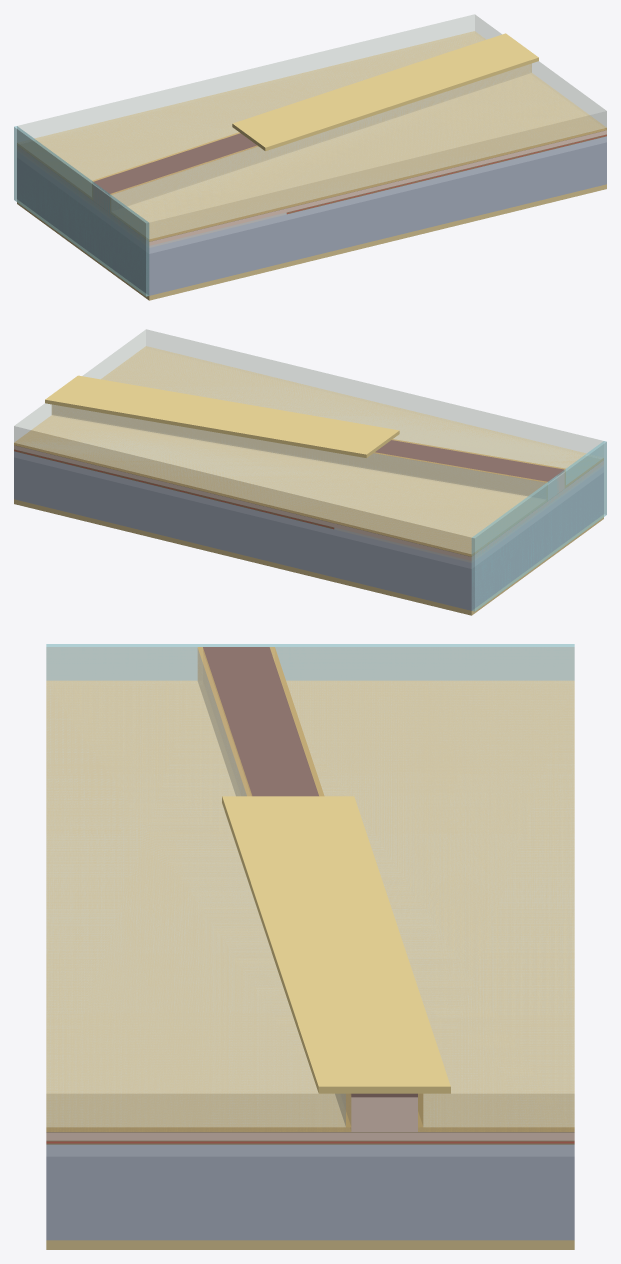
Rendered from stack-soa.glb.
The picture shows the model from 3 angles, top to bottom: view 1: azimuth 30°, elevation 25°; view 2: azimuth 150°, elevation 25°; view 3: azimuth 270°, elevation 25°; orthographic projection. The views are drawn at different scales.
Parts seen in each view (by area): view 1: bcb, sin, sub, pmetal, ar, ninp, nmetal, pinp, cap, estop, sch, window (+1 smaller); view 2: bcb, sin, sub, pmetal, ar, ninp, nmetal, pinp, cap, estop, sch, window (+1 smaller); view 3: bcb, sin, sub, pmetal, ar, cap, pinp, ninp, nmetal, sch, estop, qw.
Boxes of the visible parts, <box> form: bcb: <box>17,14,606,238</box>; sin: <box>17,31,606,241</box>; sub: <box>17,142,606,295</box>; pmetal: <box>232,33,538,151</box>; ar: <box>14,126,149,296</box>; ninp: <box>17,136,606,253</box>; nmetal: <box>17,184,606,300</box>; pinp: <box>17,130,606,245</box>; cap: <box>93,133,257,194</box>; estop: <box>17,129,606,241</box>; sch: <box>286,134,606,214</box>; window: <box>17,149,286,247</box>; bcb: <box>14,329,603,553</box>; sin: <box>14,346,603,556</box>; sub: <box>14,457,603,610</box>; pmetal: <box>45,375,399,457</box>; ar: <box>471,441,606,611</box>; ninp: <box>14,451,603,568</box>; nmetal: <box>14,499,603,615</box>; pinp: <box>14,445,603,560</box>; cap: <box>375,440,564,482</box>; estop: <box>14,444,603,556</box>; sch: <box>14,449,334,529</box>; window: <box>334,464,603,562</box>; bcb: <box>46,647,574,1127</box>; sin: <box>46,647,574,1131</box>; sub: <box>46,1156,574,1240</box>; pmetal: <box>222,796,450,1093</box>; ar: <box>46,644,574,680</box>; cap: <box>203,647,417,1097</box>; pinp: <box>46,653,574,1140</box>; ninp: <box>46,1144,574,1156</box>; nmetal: <box>46,1240,574,1249</box>; sch: <box>46,1140,574,1144</box>; estop: <box>46,1127,574,1132</box>; qw: <box>46,1141,574,1143</box>.
Size of the model in its own units: 40.27 by 6.82 by 20.
